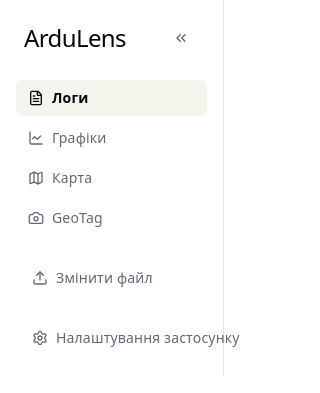
it: Sidebar › expands again when the toggle is clicked a second time
The width and height of the screenshot is (320, 393).
Click the button named "Згорнути бічну панель".
click(181, 38)  # box 163,20 -> 199,56
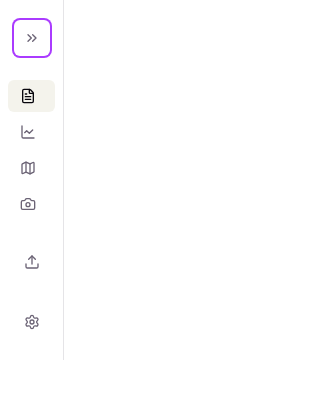
Click the button named "Розгорнути бічну панель".
click(32, 38)  # box 14,20 -> 50,56
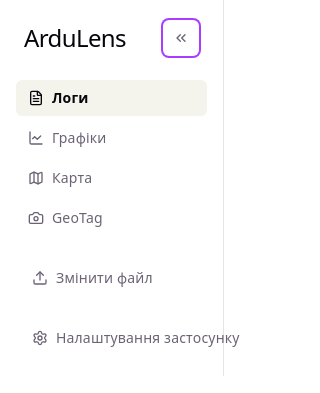
Now the heading "ArduLens" is shown, box 24,22 -> 126,54
